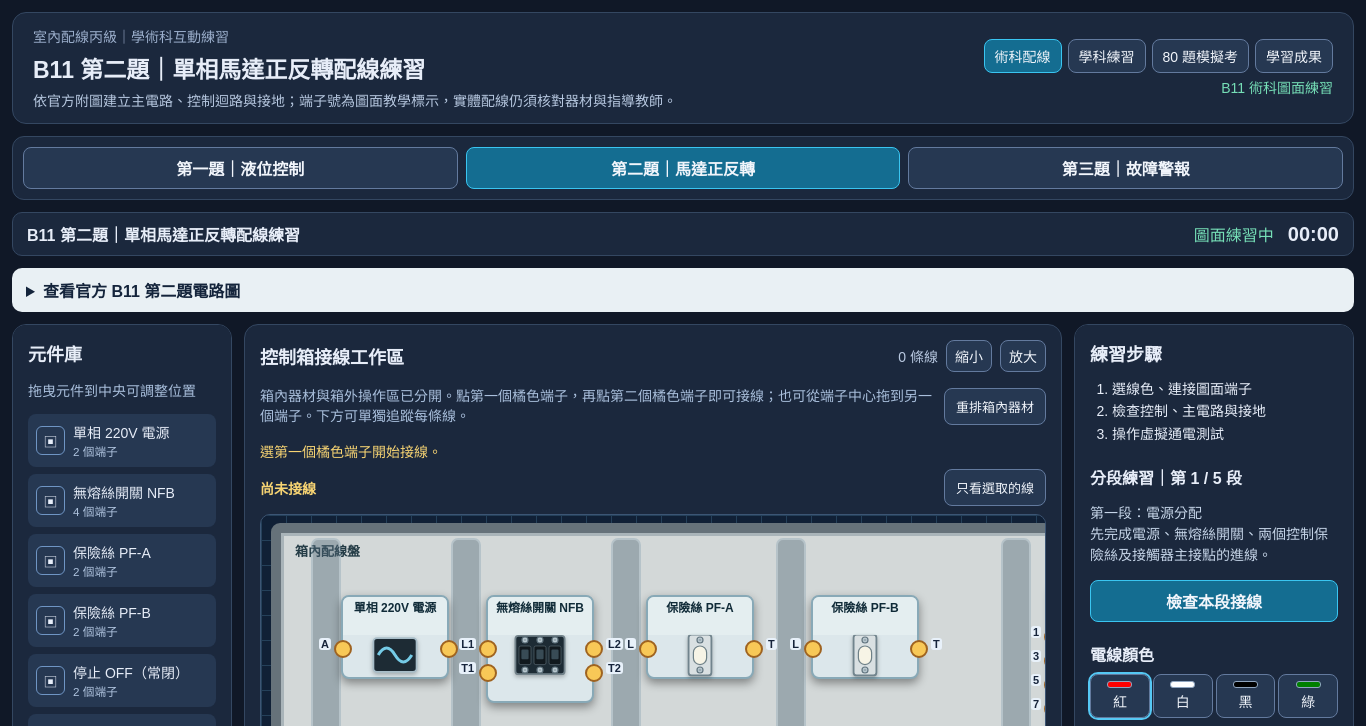
B11 practice screen › opens the learning results dashboard from the main navigation
Click the button "學習成果": (1294, 56) [1255,39,1333,73]
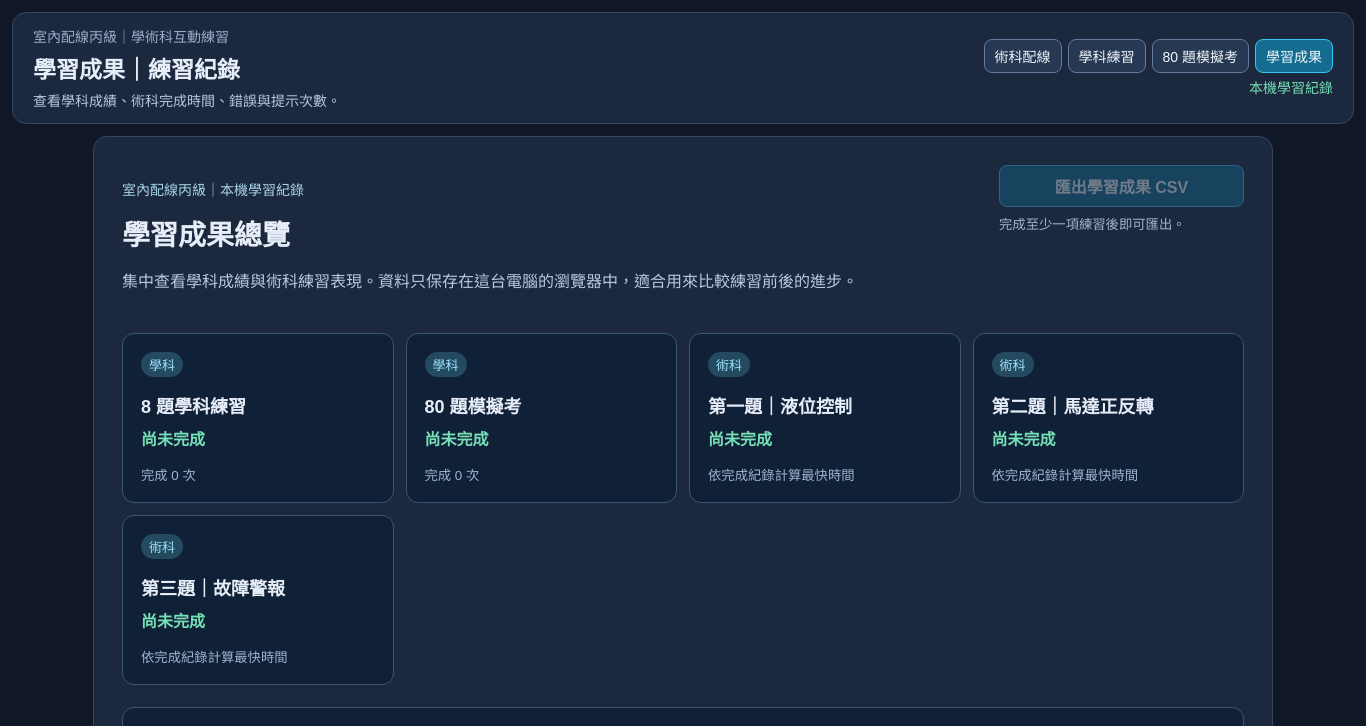
Expected: the heading "學習成果總覽" is shown, [122,220,290,251]
